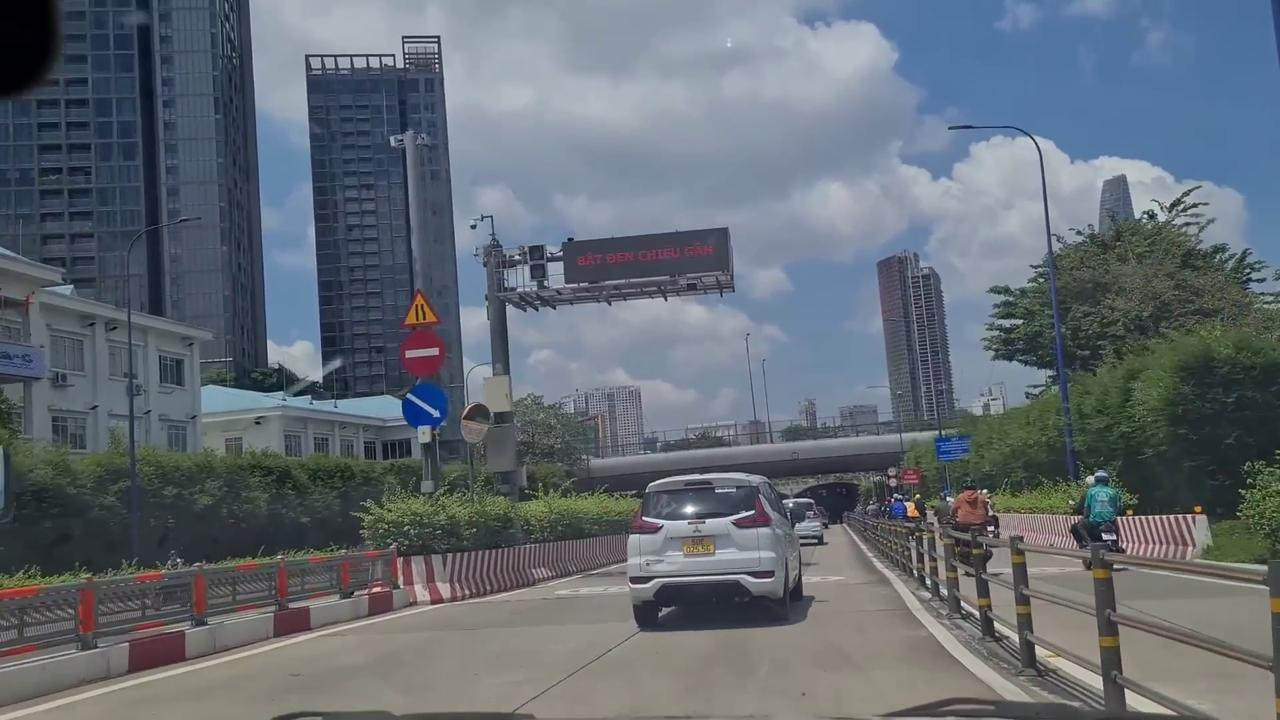Cấm đi ngược chiều: (397, 328, 448, 380)
Hướng phải đi vòng sang phải: (399, 381, 449, 433)
Đuờng hẹp: (398, 288, 442, 328)
